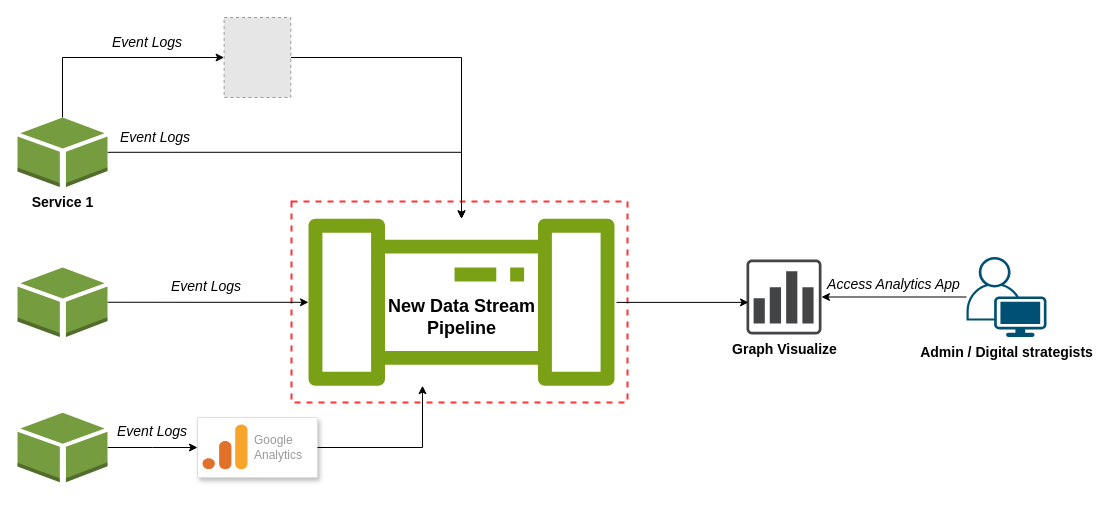
The diagram is 1110 pixels wide and 524 high, and some of its shapes have lost their labels. Grey dashed boxes stand in for pictures. Here are the shapes that lost their labels. From the top down, the centre of each, then its label:
the point at 62,301: Service 2
the point at 62,447: Service 3
